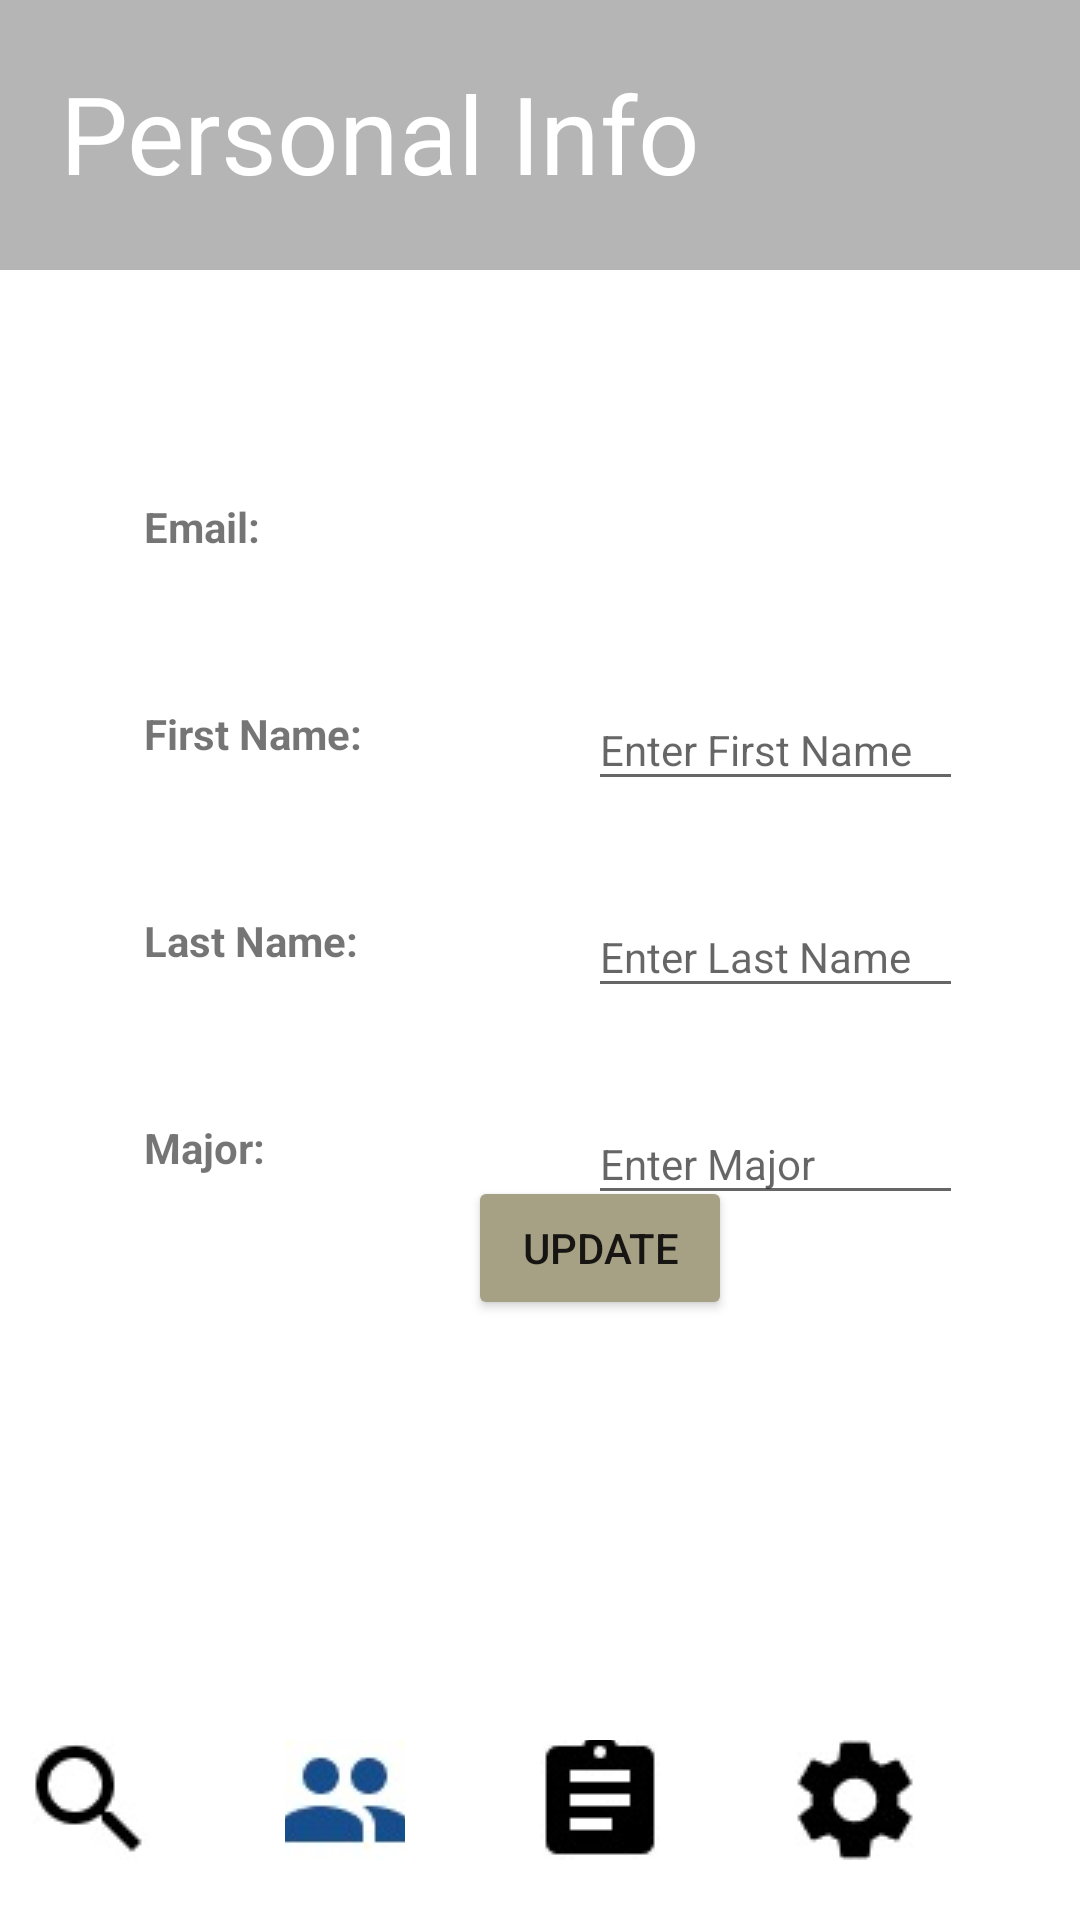

Screen size 1080px×1920px. Icon name, then its center in pixels as (x,y):
course list: (600,1797)
people: (345,1800)
search: (88,1798)
setting: (855,1800)
